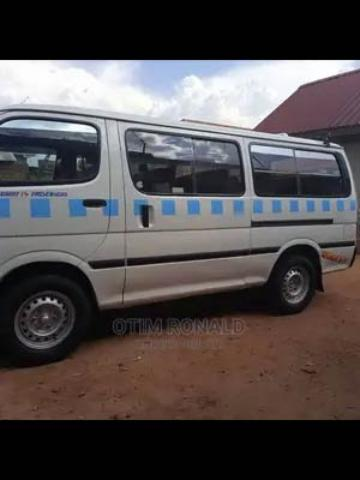van: (0, 103, 355, 364)
